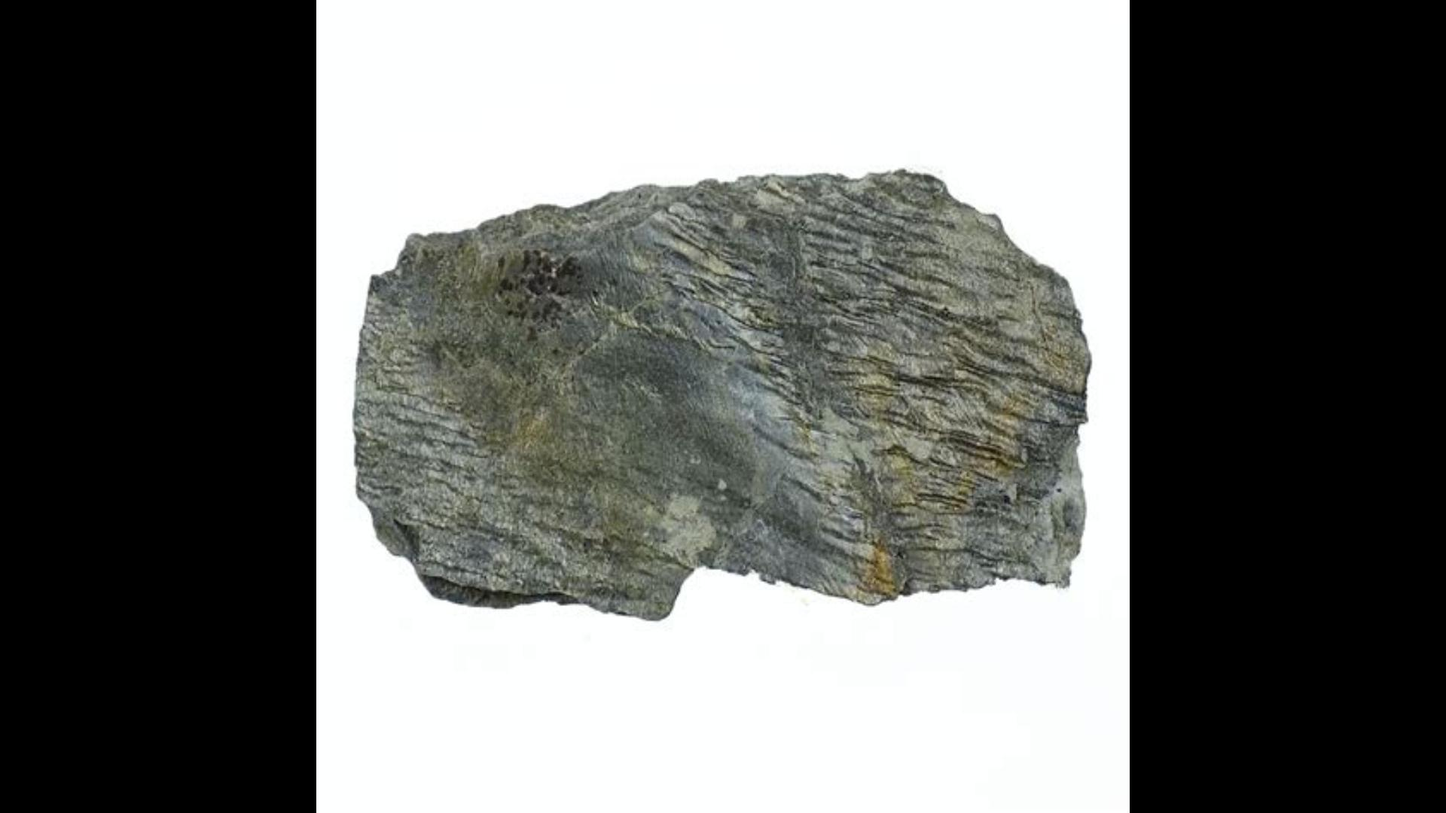rock: (357, 172, 1083, 617)
